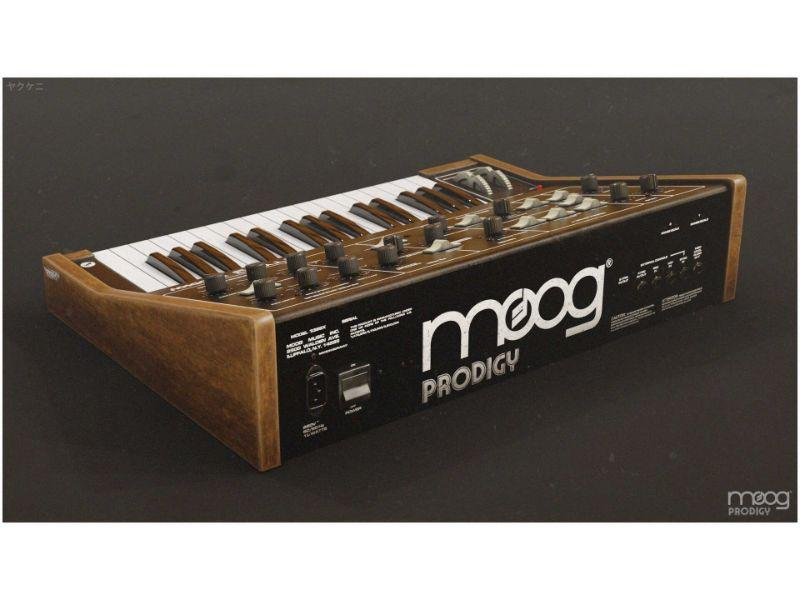synthesizer: (48, 143, 785, 472)
